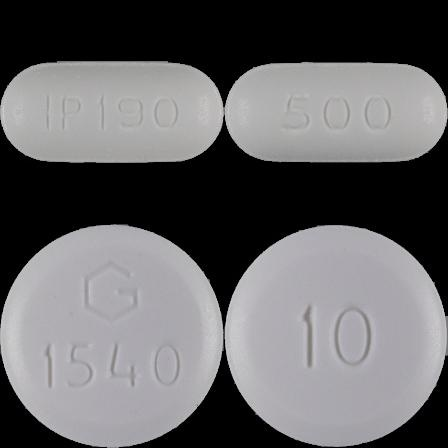55289-298: (0, 0, 224, 224)
